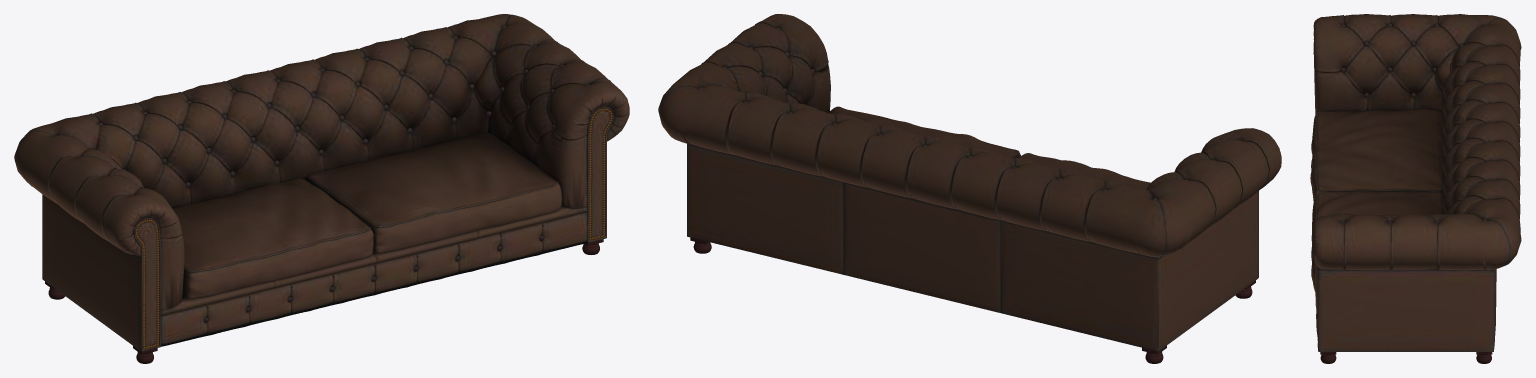
Rendered from sofa-2.glb.
The picture shows the model from 3 angles, left to right: view 1: azimuth 30°, elevation 25°; view 2: azimuth 150°, elevation 25°; view 3: azimuth 270°, elevation 25°; orthographic projection. The views are drawn at different scales.
Visible parts, largest first — view 1: pasted__sofabody2, pasted__sodametals, pasted__sofabuttons, pasted__sofalegs; view 2: pasted__sofabody2, pasted__sofalegs; view 3: pasted__sofabody2, pasted__sofalegs, pasted__sofabuttons.
Boxes of the visible parts, x1,y1,x2,y2 form: pasted__sofabody2: (14,14,629,351); pasted__sodametals: (135,108,612,349); pasted__sofabuttons: (54,26,589,322); pasted__sofalegs: (45,239,603,363); pasted__sofabody2: (658,14,1281,351); pasted__sofalegs: (690,237,1255,363); pasted__sofabody2: (1310,14,1521,351); pasted__sofalegs: (1320,352,1492,363); pasted__sofabuttons: (1341,23,1489,222).
Bounding box in the file's own units: 17.62 × 5.41 × 6.99.
Materials: 4 (1 with a texture image).
